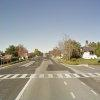Crosswalk: (5, 67, 100, 91)
